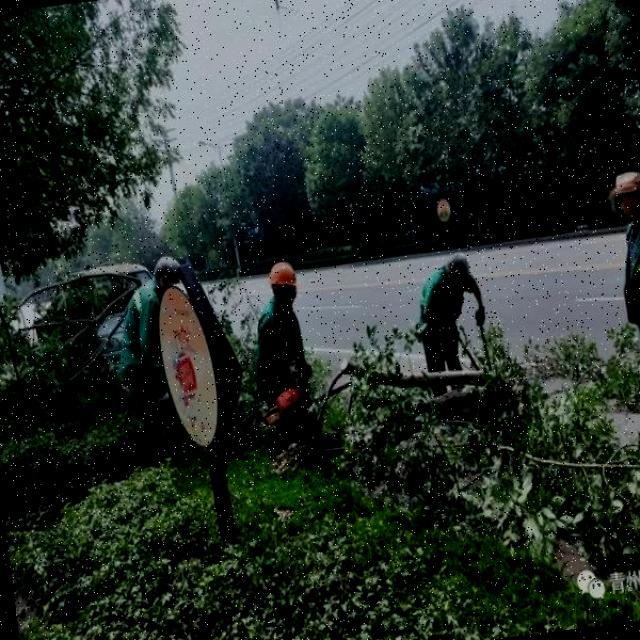fallen_object: (339, 347, 518, 404)
